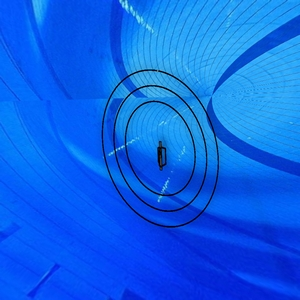circle: (98, 67, 223, 231)
submarine: (152, 138, 173, 179)
